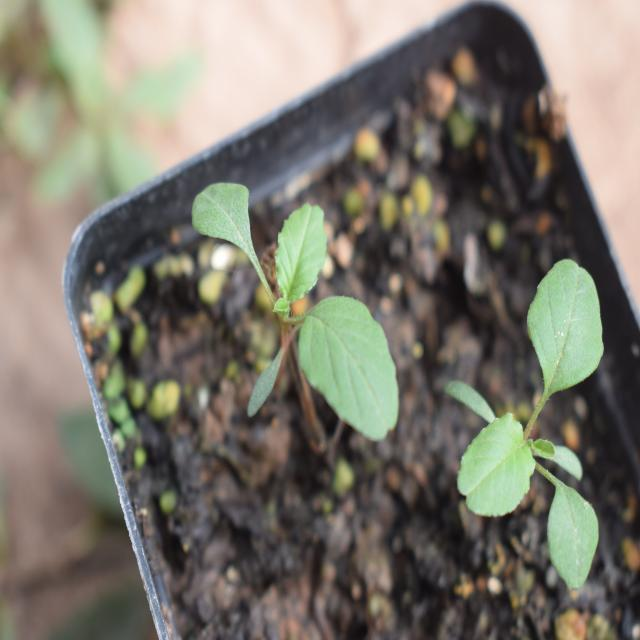pigweed: (190, 165, 408, 438), (453, 249, 615, 587)
